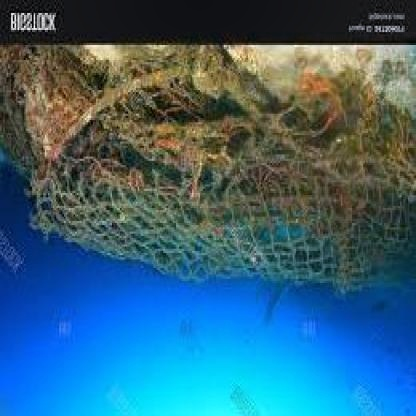net: (40, 84, 411, 278)
